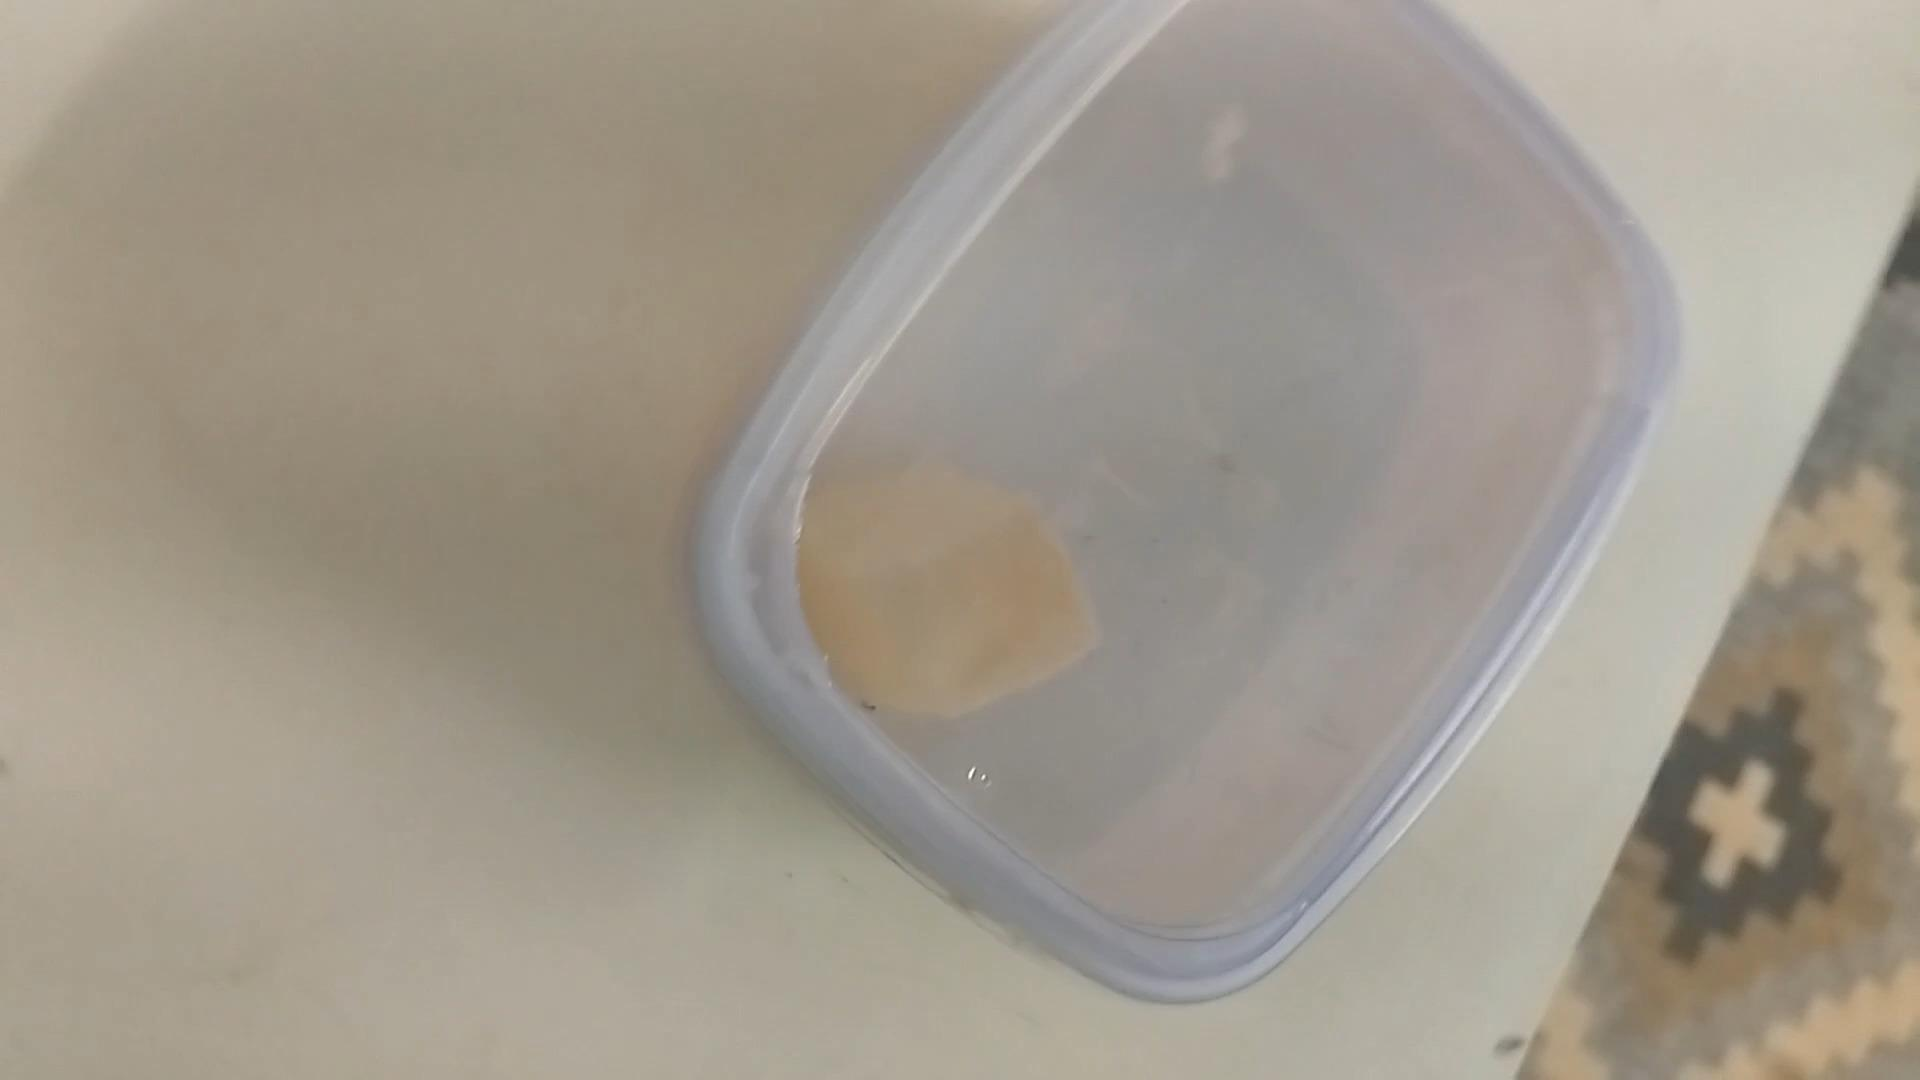butter: (688, 0, 1664, 1002)
